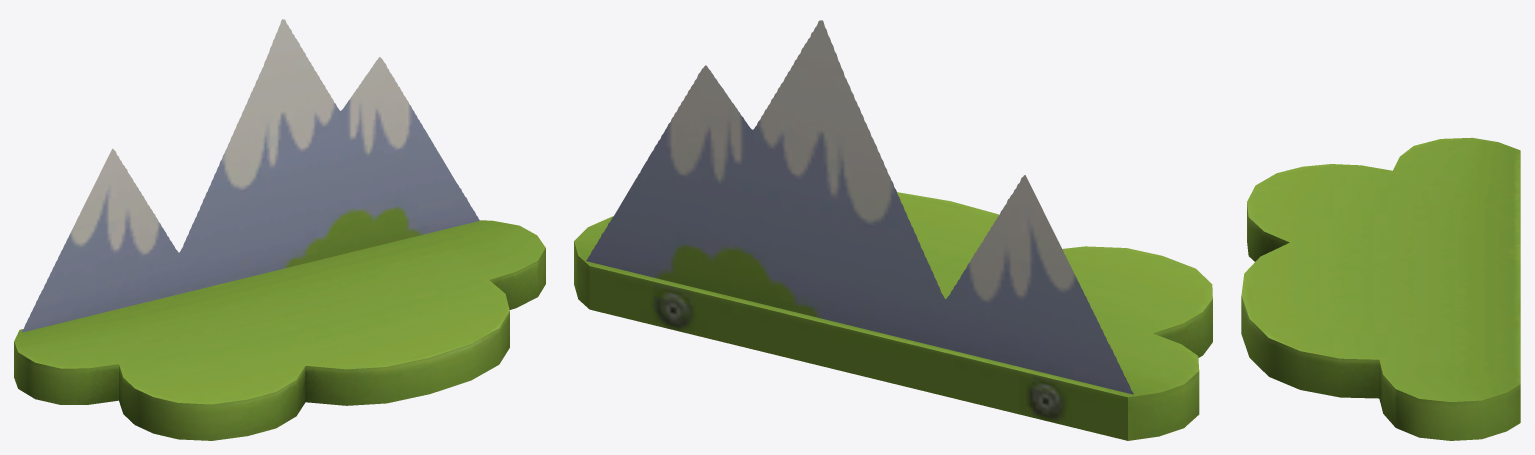
File: estante1.fbx
3 views of the same model, side by side, from view 1: azimuth 30°, elevation 25°; view 2: azimuth 150°, elevation 25°; view 3: azimuth 270°, elevation 25° (orthographic). The views are drawn at different scales.
Parts seen in each view (by area): view 1: s4studio_mesh_1; view 2: s4studio_mesh_1; view 3: s4studio_mesh_1.
Part boxes in pixels (x1,y1,x2,y2): s4studio_mesh_1: [14, 19, 545, 440]; s4studio_mesh_1: [574, 20, 1212, 440]; s4studio_mesh_1: [1241, 137, 1520, 440].
Bounding box in the file's own units: 73.48 × 40.19 × 32.78.
Materials: 1 (1 with a texture image).
